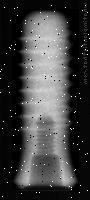Keystone Dental: (8, 8, 79, 191)
